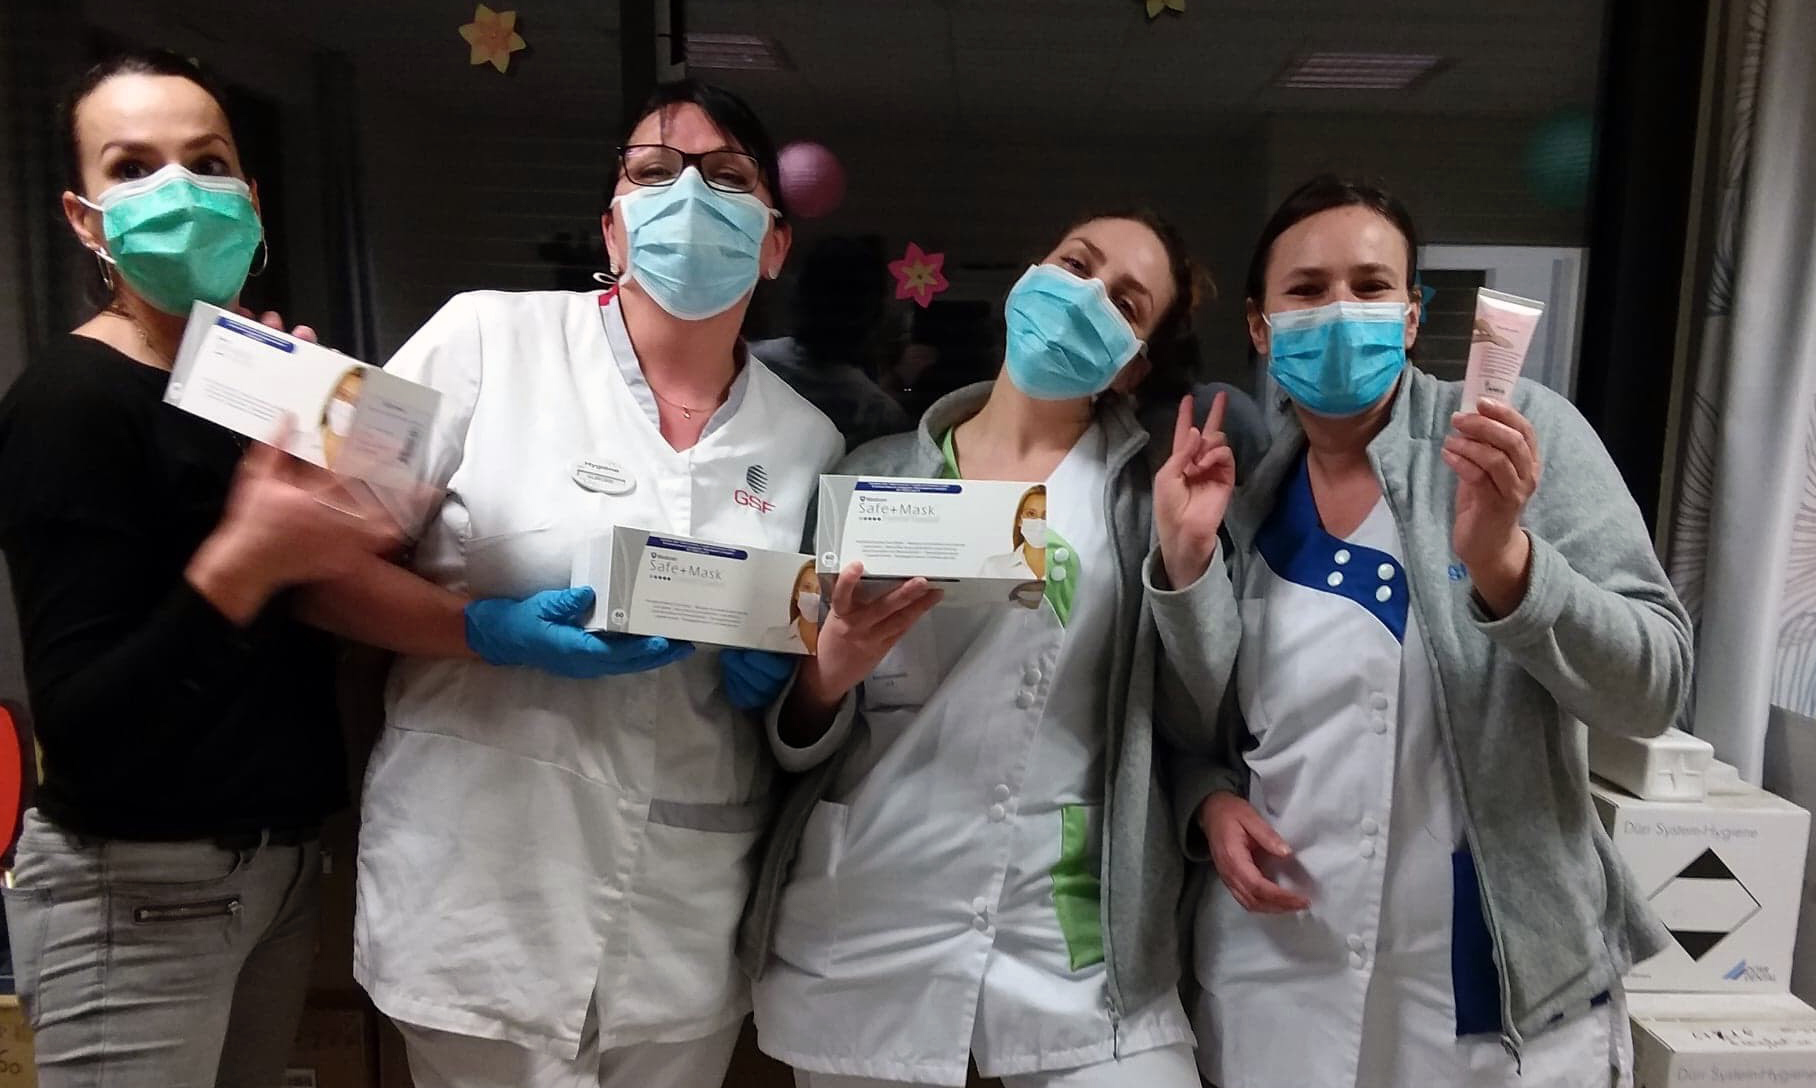with_mask: (68, 80, 263, 331), (597, 102, 795, 333), (994, 211, 1175, 433), (1251, 213, 1425, 435)
